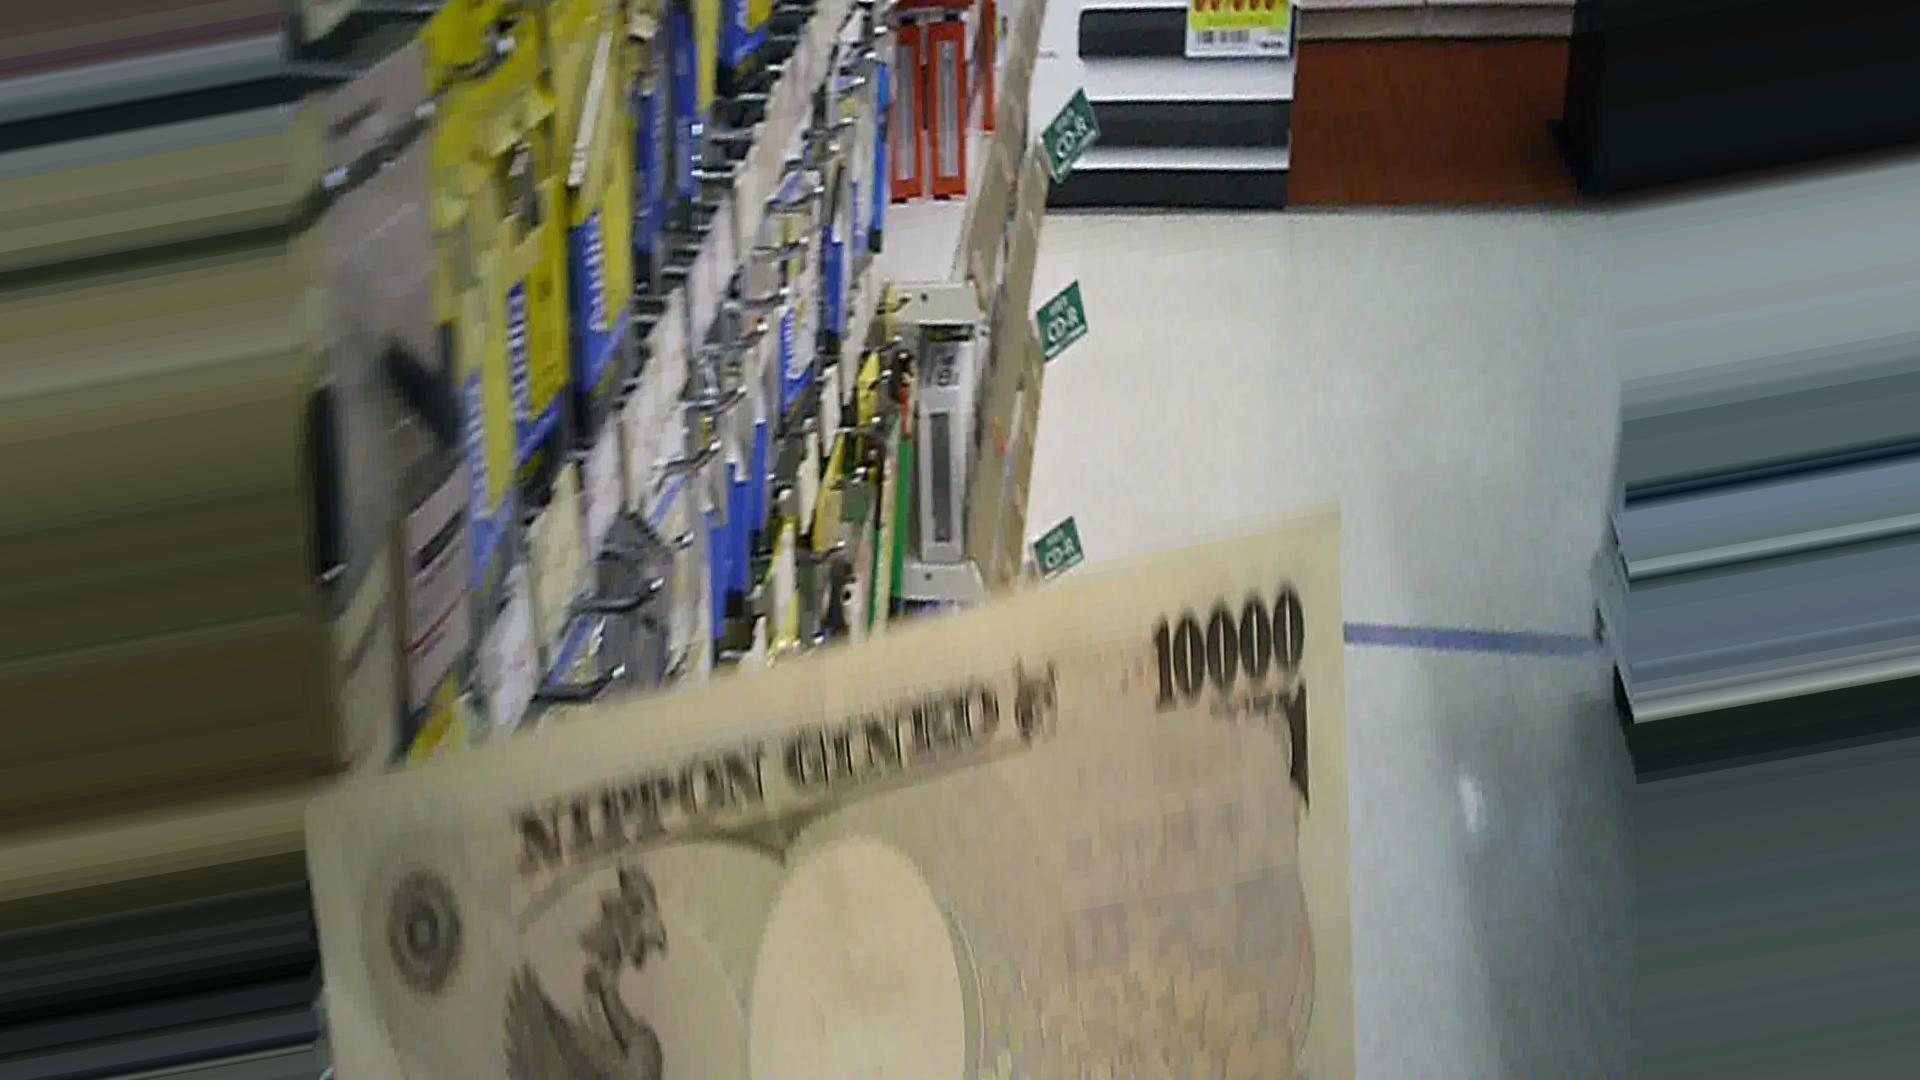10,000 Yen: (291, 555, 1422, 1007)
